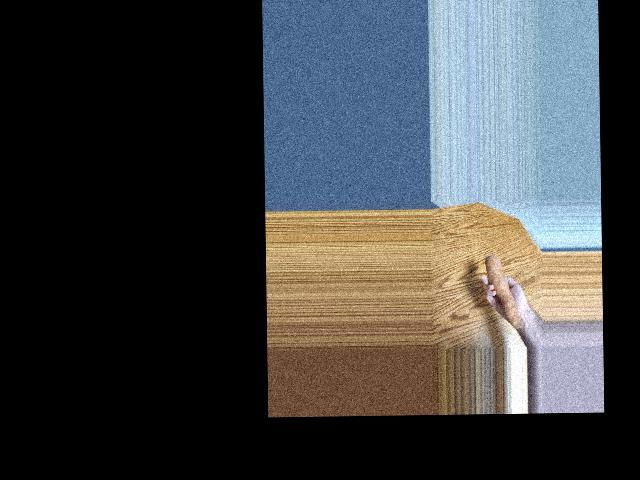sweet_potato: (490, 257, 523, 329)
